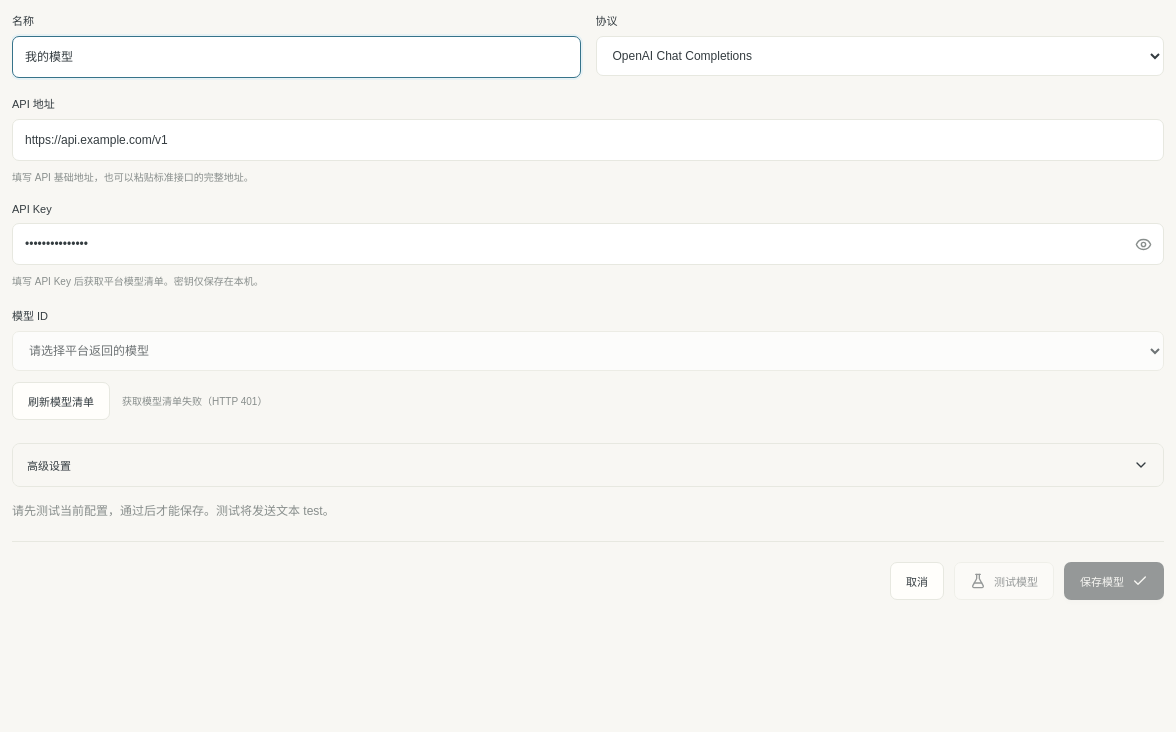
Scenario: provider model selector › keeps selection unavailable on failure and supports explicit retry
Expected: the text "获取模型清单失败（HTTP 401）" is shown, [122, 392, 267, 410]
Expected: the dropdown labelled "模型 ID" is disabled, [12, 331, 1164, 371]
Click the button "刷新模型清单": (61,401) [12, 382, 110, 420]
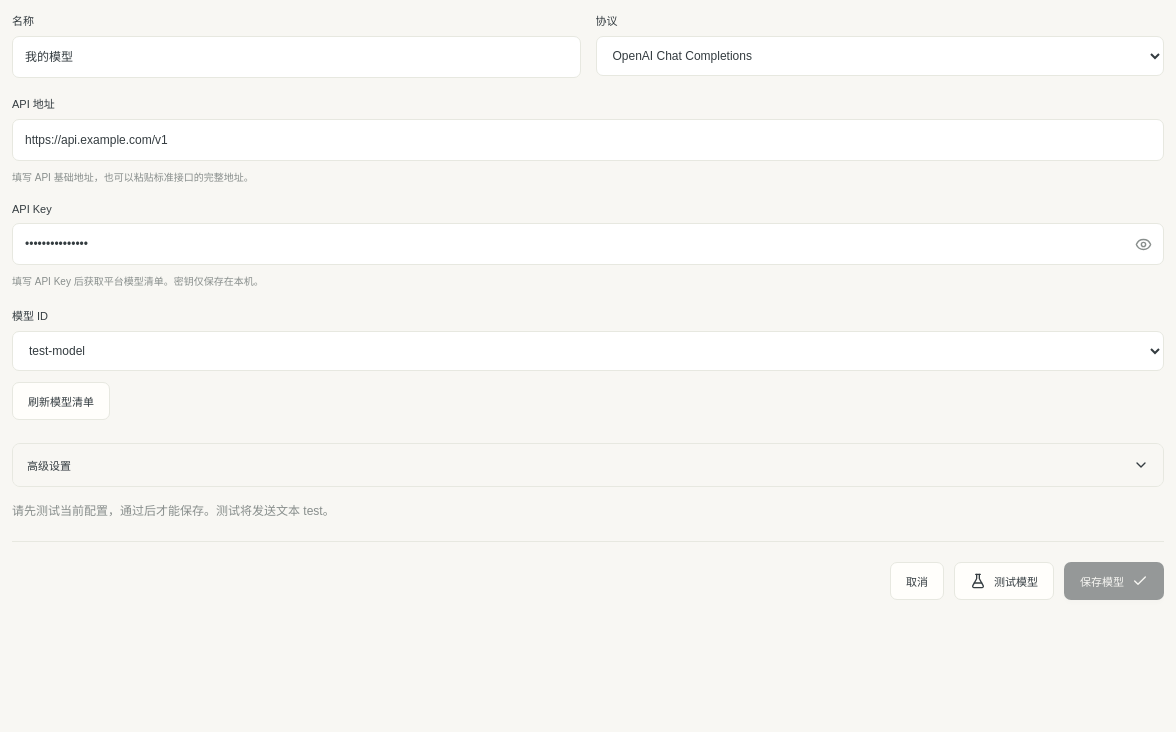
Expected: the dropdown labelled "模型 ID" shows "test-model", [12, 331, 1164, 371]
